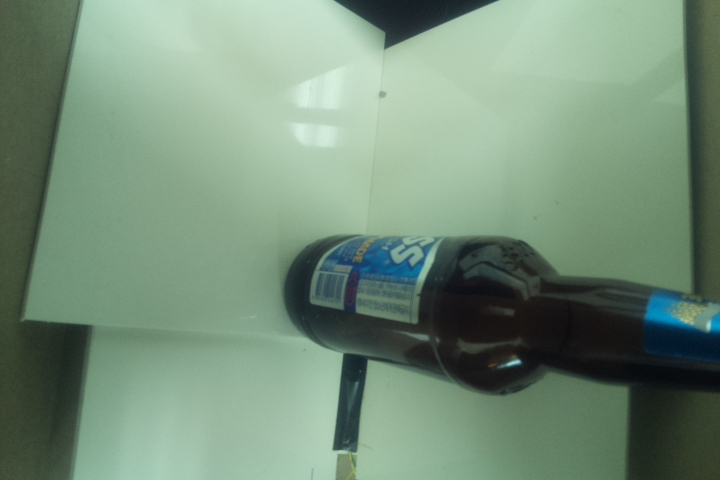makju: (279, 229, 720, 402)
